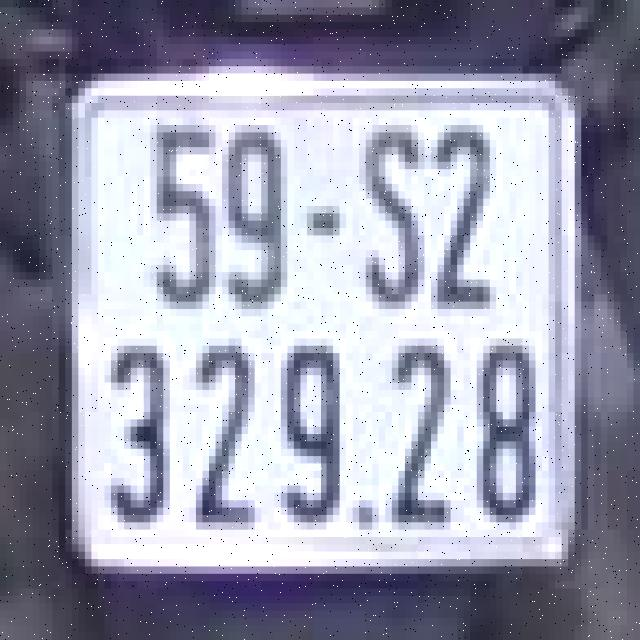2: (379, 331, 457, 530), (431, 99, 496, 313), (186, 338, 258, 530)
3: (98, 334, 183, 540)
5: (147, 125, 219, 324)
8: (467, 327, 545, 541)
9: (271, 331, 356, 537), (219, 110, 297, 324)
S: (349, 118, 428, 316)
